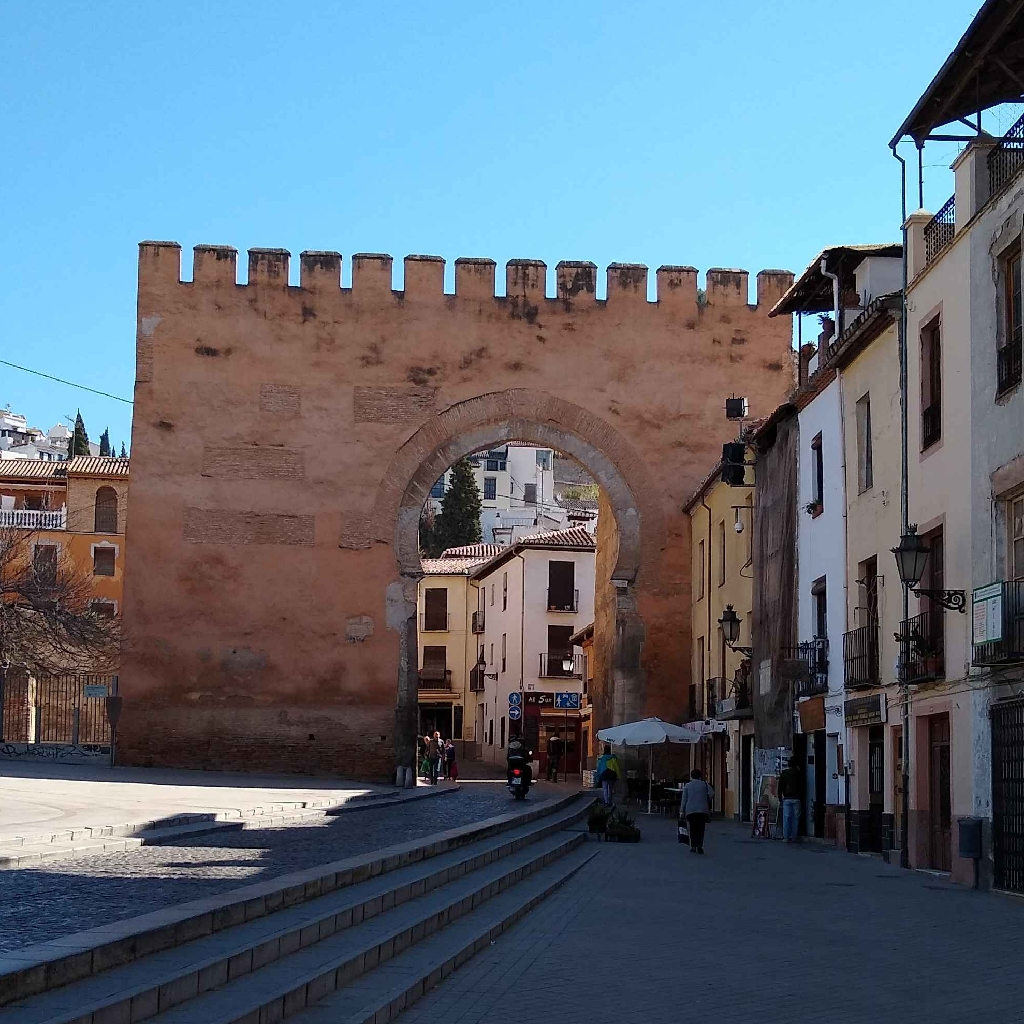arco-herradura: (390, 419, 642, 608)
